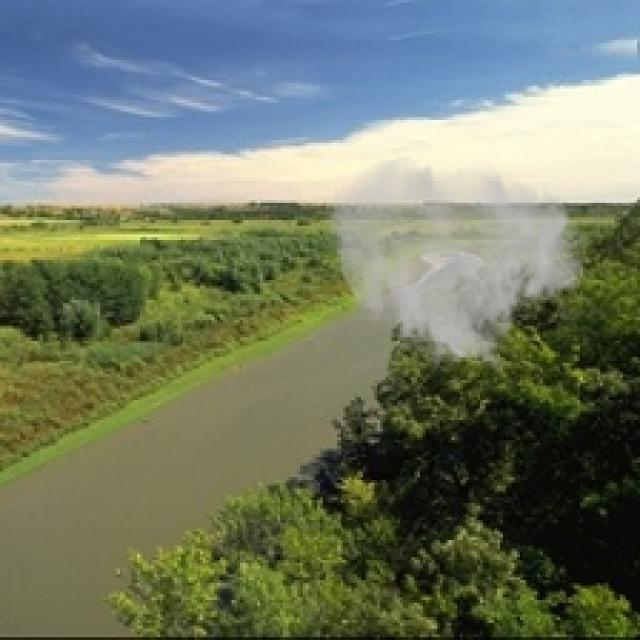Smoke: (322, 154, 588, 374)
